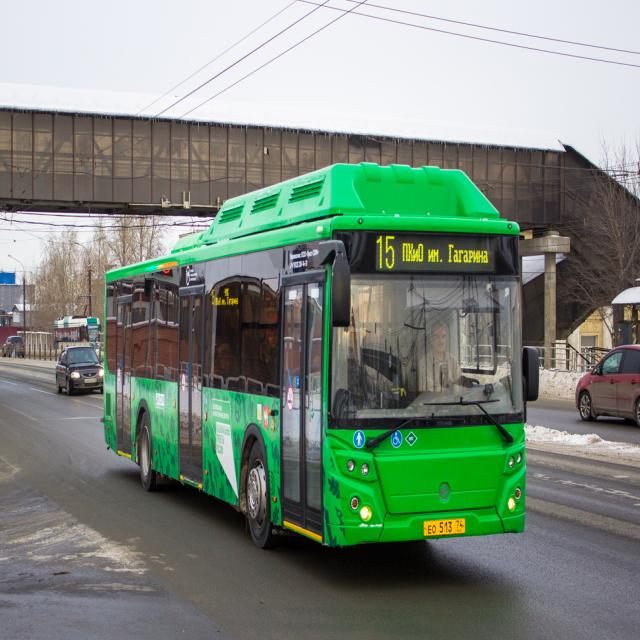number-of-bus: (377, 234, 398, 272)
